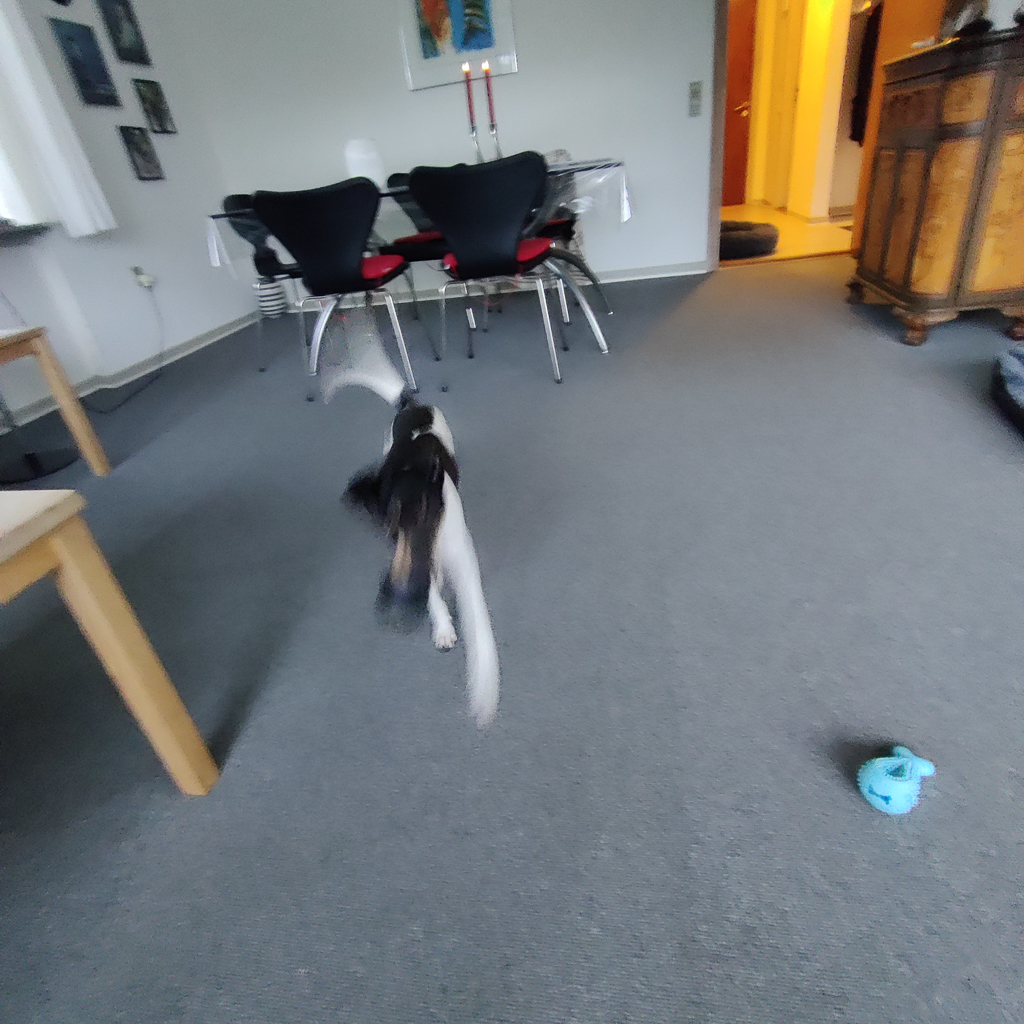Dog: (279, 300, 526, 738)
